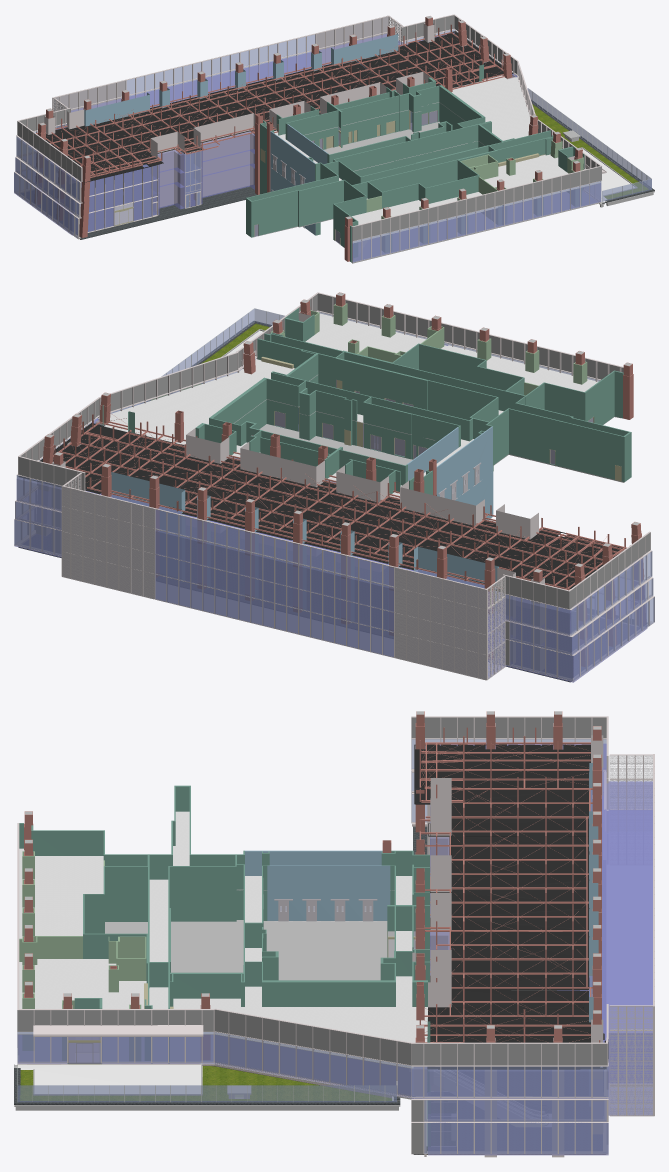
The picture shows the model from 3 angles, top to bottom: view 1: azimuth 30°, elevation 25°; view 2: azimuth 150°, elevation 25°; view 3: azimuth 270°, elevation 25°; orthographic projection. The views are drawn at different scales.
Visible parts, largest first — view 1: ペイント - ペールジェード, ゾーン - 01, ガラス - シンプル 青 ライト, 金属 - アルミニウム, 金属 - 銅, ペイント - アントラシート, Rhino - 002, 漆喰 - 白 ファイン, C-01, 金属 - ステンレス, ペイント - ペールブルー, ペイント - セラドン (+7 smaller); view 2: ペイント - ペールジェード, ガラス - シンプル 青 ライト, ゾーン - 01, 金属 - アルミニウム, 金属 - 銅, ペイント - アントラシート, 金属 - ステンレス, 金属 - パンチング 丸穴 中, Rhino - 002, 漆喰 - 白 ファイン, C-01, ペイント - ペールブルー (+3 smaller); view 3: ゾーン - 01, ペイント - アントラシート, ガラス - シンプル 青 ライト, ペイント - ペールジェード, 金属 - アルミニウム, 金属 - 銅, 漆喰 - 白 ファイン, Rhino - 002, コンクリート, ペイント - ペールブルー, 金属 - パンチング 丸穴 中, ペイント - タイタニウムホワイト (+6 smaller).
Boxes of the visible parts, <box> form: ペイント - ペールジェード: <box>246,64,584,262</box>; ゾーン - 01: <box>14,32,601,261</box>; ガラス - シンプル 青 ライト: <box>14,29,651,262</box>; 金属 - アルミニウム: <box>14,14,606,262</box>; 金属 - 銅: <box>26,16,582,261</box>; ペイント - アントラシート: <box>45,31,513,182</box>; Rhino - 002: <box>17,15,601,240</box>; 漆喰 - 白 ファイン: <box>274,75,600,243</box>; C-01: <box>84,33,398,126</box>; 金属 - ステンレス: <box>53,16,388,228</box>; ペイント - ペールブルー: <box>270,124,327,235</box>; ペイント - セラドン: <box>366,140,583,252</box>; ペイント - ペールジェード: <box>102,308,631,495</box>; ガラス - シンプル 青 ライト: <box>14,308,654,680</box>; ゾーン - 01: <box>14,344,647,682</box>; 金属 - アルミニウム: <box>14,292,654,681</box>; 金属 - 銅: <box>43,292,643,666</box>; ペイント - アントラシート: <box>18,423,625,591</box>; 金属 - ステンレス: <box>62,462,486,679</box>; 金属 - パンチング 丸穴 中: <box>62,475,505,679</box>; Rhino - 002: <box>18,293,650,665</box>; 漆喰 - 白 ファイン: <box>98,313,598,498</box>; C-01: <box>111,472,498,655</box>; ペイント - ペールブルー: <box>407,426,493,519</box>; ゾーン - 01: <box>17,743,652,1155</box>; ペイント - アントラシート: <box>414,744,606,1069</box>; ガラス - シンプル 青 ライト: <box>17,739,608,1153</box>; ペイント - ペールジェード: <box>19,785,430,1146</box>; 金属 - アルミニウム: <box>17,716,654,1157</box>; 金属 - 銅: <box>24,711,601,1059</box>; 漆喰 - 白 ファイン: <box>18,811,427,1068</box>; Rhino - 002: <box>17,717,608,1153</box>; コンクリート: <box>14,711,601,1110</box>; ペイント - ペールブルー: <box>245,850,390,920</box>; 金属 - パンチング 丸穴 中: <box>610,756,652,1115</box>; ペイント - タイタニウムホワイト: <box>18,1064,544,1126</box>.
Size of the model in its own units: 8485 by 6866 by 1516.
25 materials, 8 textured.
